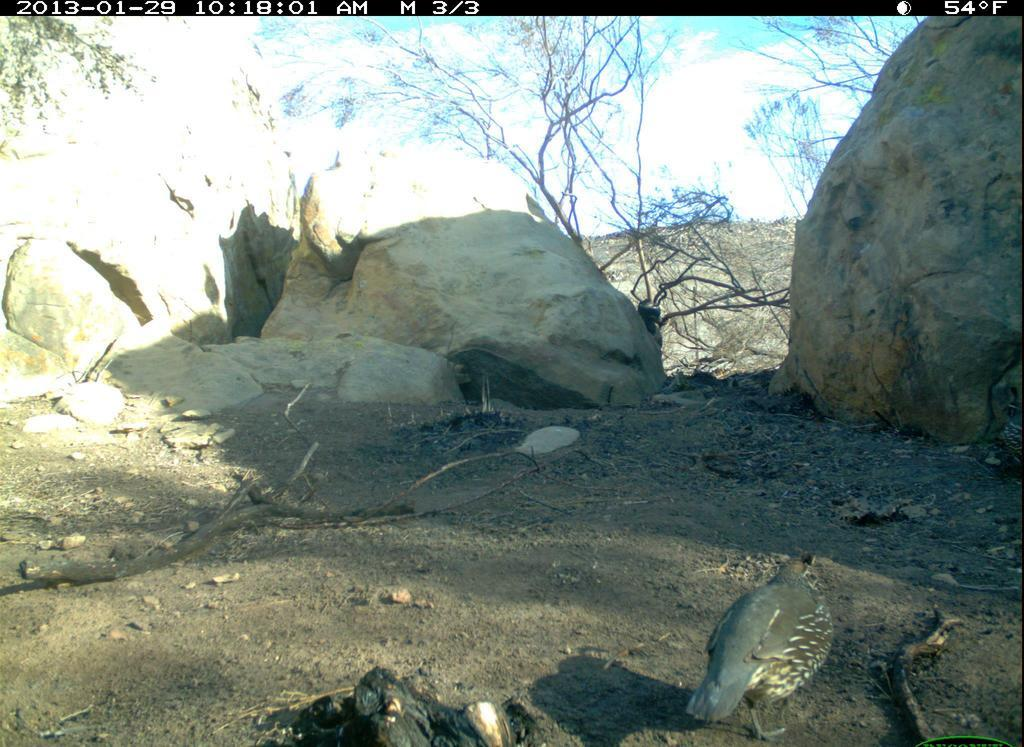bird: (683, 534, 844, 737)
